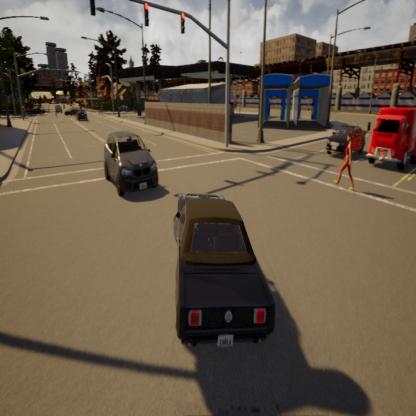Cars: (174, 191, 277, 355), (103, 128, 160, 200), (369, 104, 416, 174)
Pedestrian: (334, 130, 357, 199)
